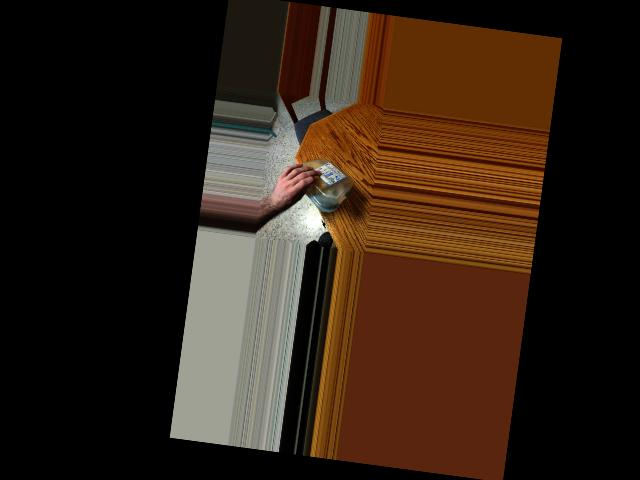cheese: (283, 153, 356, 212)
